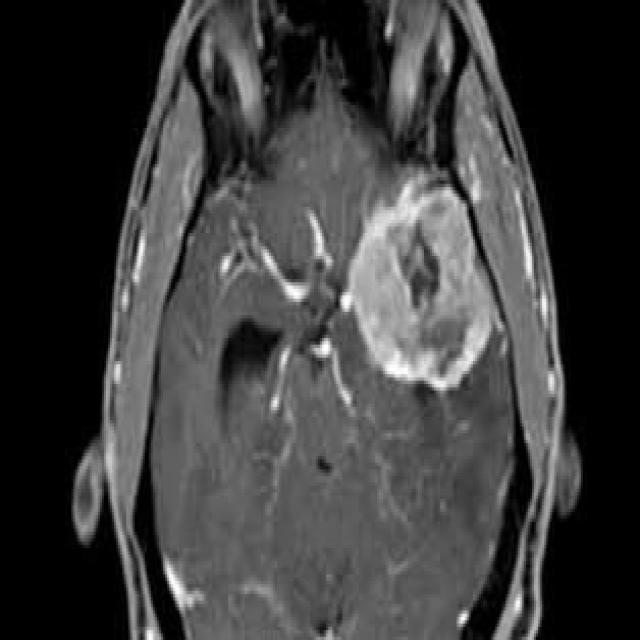brain_tumor: (348, 169, 499, 390)
